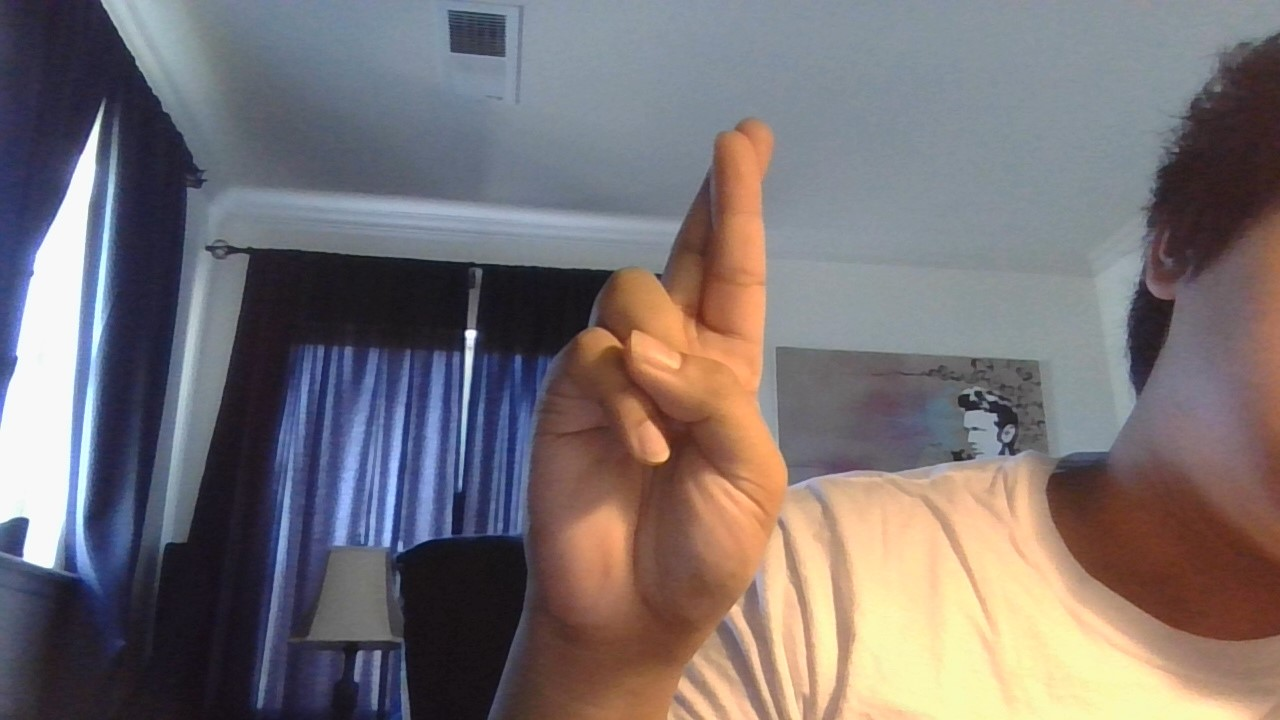r: (485, 104, 822, 653)
